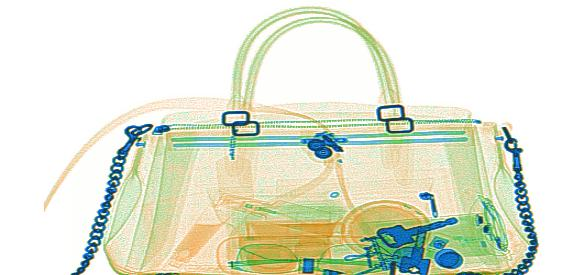plasticBottleWithaNozzle: (217, 188, 344, 239)
